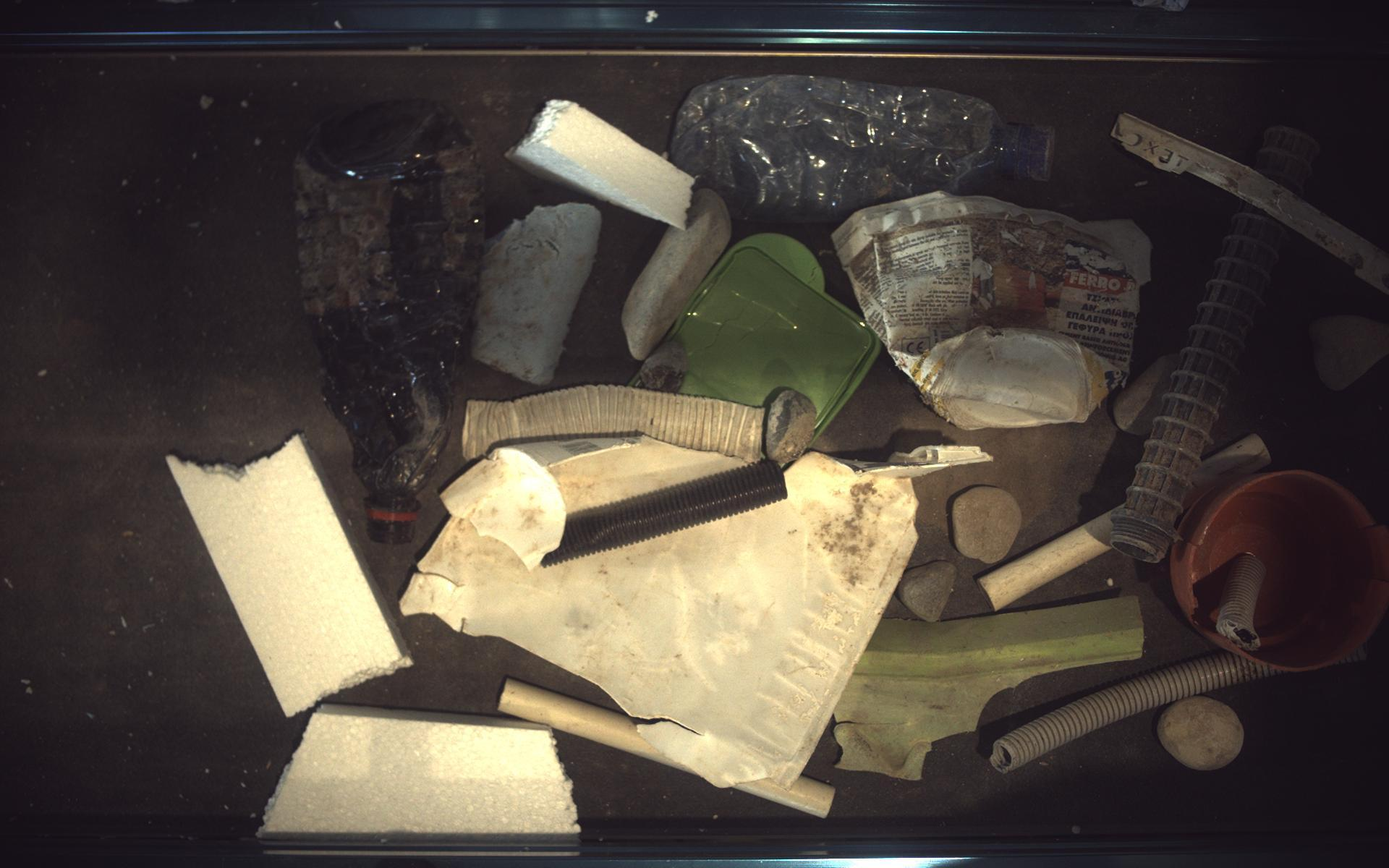foam: (166, 435, 417, 720), (258, 706, 579, 839), (504, 100, 695, 232), (472, 202, 602, 385)
general_w: (294, 98, 484, 542), (671, 74, 1056, 221), (1173, 471, 1389, 672), (669, 235, 883, 435)
pipes: (993, 652, 1286, 774), (541, 460, 789, 568), (463, 385, 766, 462), (498, 680, 688, 771), (981, 512, 1118, 611), (1188, 434, 1274, 509), (1219, 553, 1270, 652), (737, 778, 837, 820), (1336, 644, 1371, 666)
plastic: (401, 436, 992, 788), (835, 191, 1152, 430), (1114, 203, 1288, 563), (836, 597, 1147, 781), (1114, 112, 1389, 293), (1260, 125, 1322, 193)
stone: (622, 188, 732, 360), (1160, 697, 1247, 772), (1313, 315, 1389, 391), (953, 487, 1024, 564), (1116, 354, 1181, 436), (765, 388, 818, 465), (898, 561, 959, 623), (632, 340, 689, 393)
